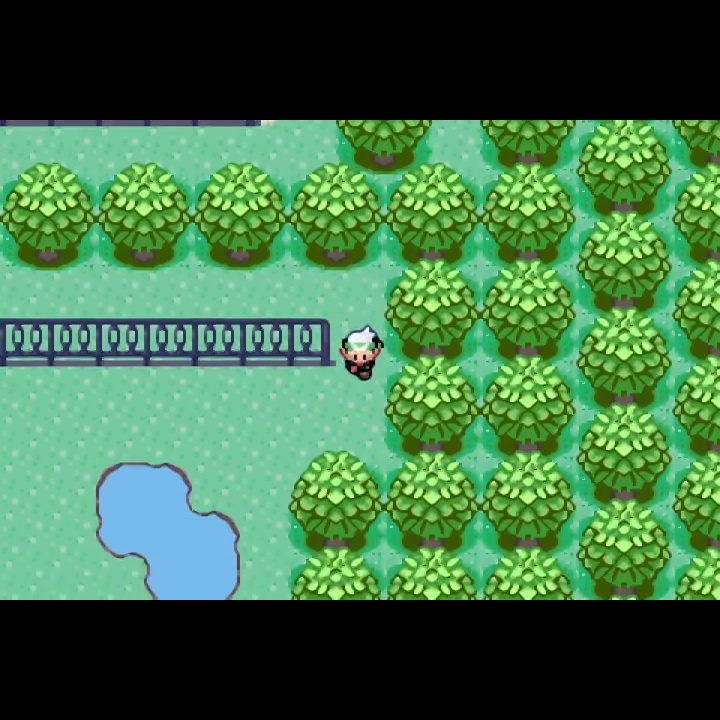npc: (338, 322, 386, 386)
wall: (192, 161, 290, 274), (287, 161, 383, 275), (96, 162, 193, 272), (286, 448, 385, 552), (383, 162, 481, 267), (1, 161, 96, 269), (576, 499, 676, 600), (383, 452, 480, 554), (479, 166, 578, 263), (385, 259, 481, 359), (481, 354, 577, 454), (481, 451, 577, 550), (578, 212, 673, 312), (385, 357, 482, 454), (577, 404, 675, 500), (482, 261, 579, 357), (578, 121, 673, 214), (579, 311, 673, 402), (335, 121, 434, 175), (479, 547, 577, 600), (288, 549, 387, 600), (385, 548, 480, 600), (671, 350, 720, 449), (479, 120, 577, 167), (673, 257, 720, 352), (672, 452, 720, 545), (674, 164, 720, 261), (674, 545, 720, 600), (672, 119, 720, 167)
